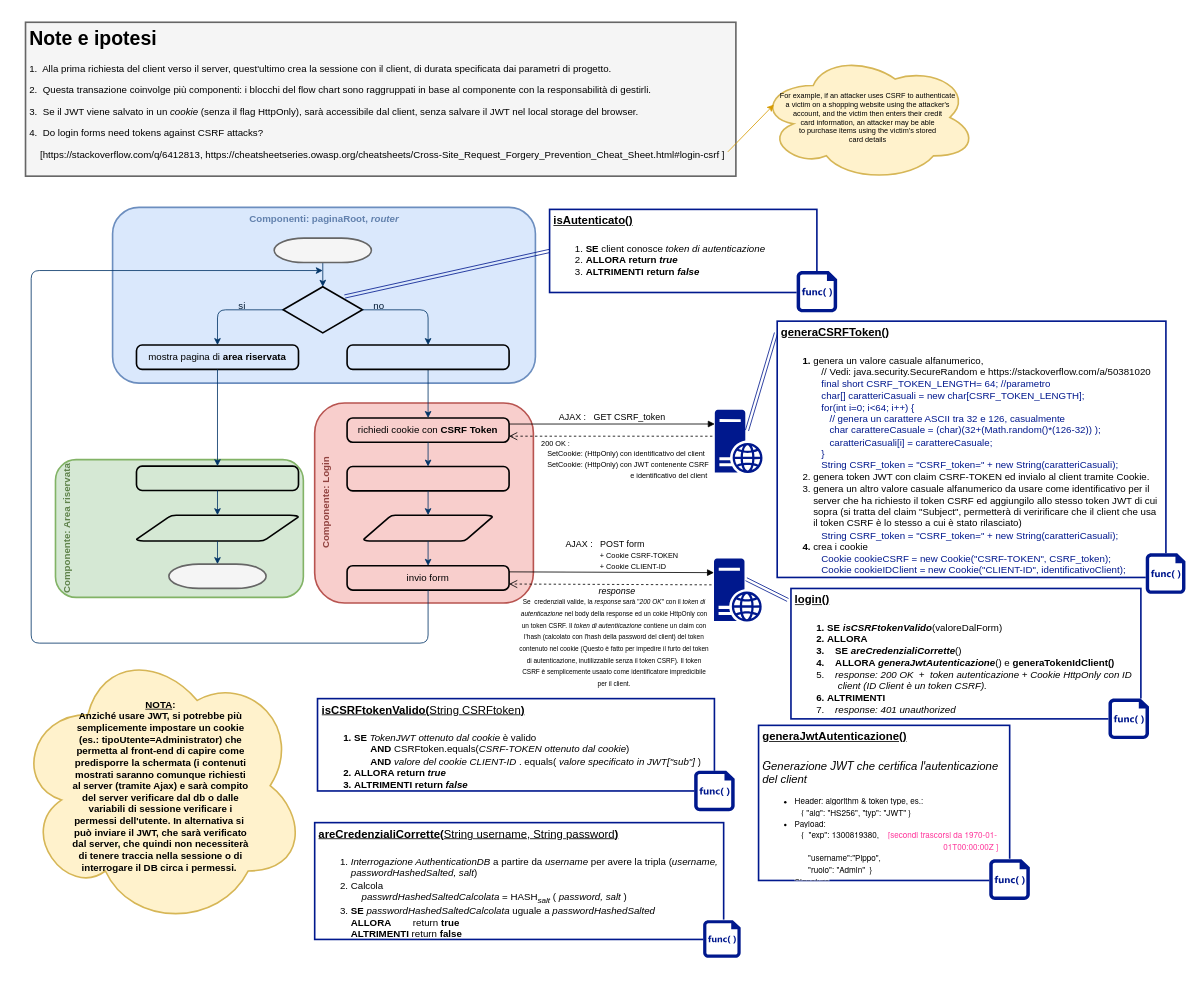
The diagram is 1200 pixels wide and 996 high, and some of its shapes have lost their labels. Here are the shapes that lost their labels. From the top down, the centre of each, then its label:
the point at 322,250: START
the point at 322,309: utente è autenticato?
the point at 427,357: mostra pagina di login
the point at 217,478: Determina tipo di utente per predisporre la schermata corretta
the point at 427,478: crea form di login con campo CSRF
the point at 217,527: area riservata personaliz- zata in base al tipo utente
the point at 427,527: utente riempie form
the point at 217,576: FINE
